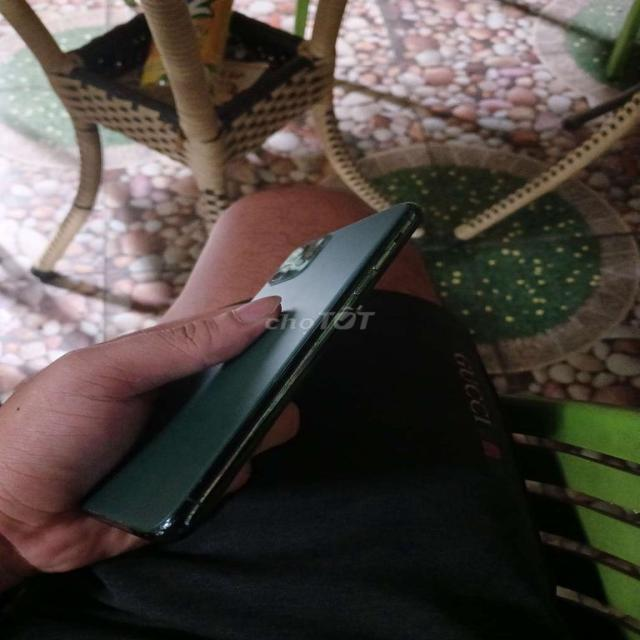gen_11: (79, 196, 426, 544)
